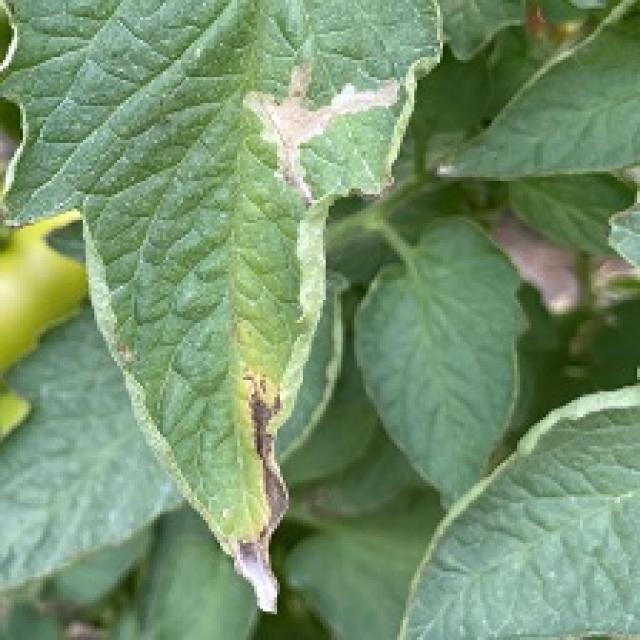Tuta absoluta: (222, 14, 408, 203)
